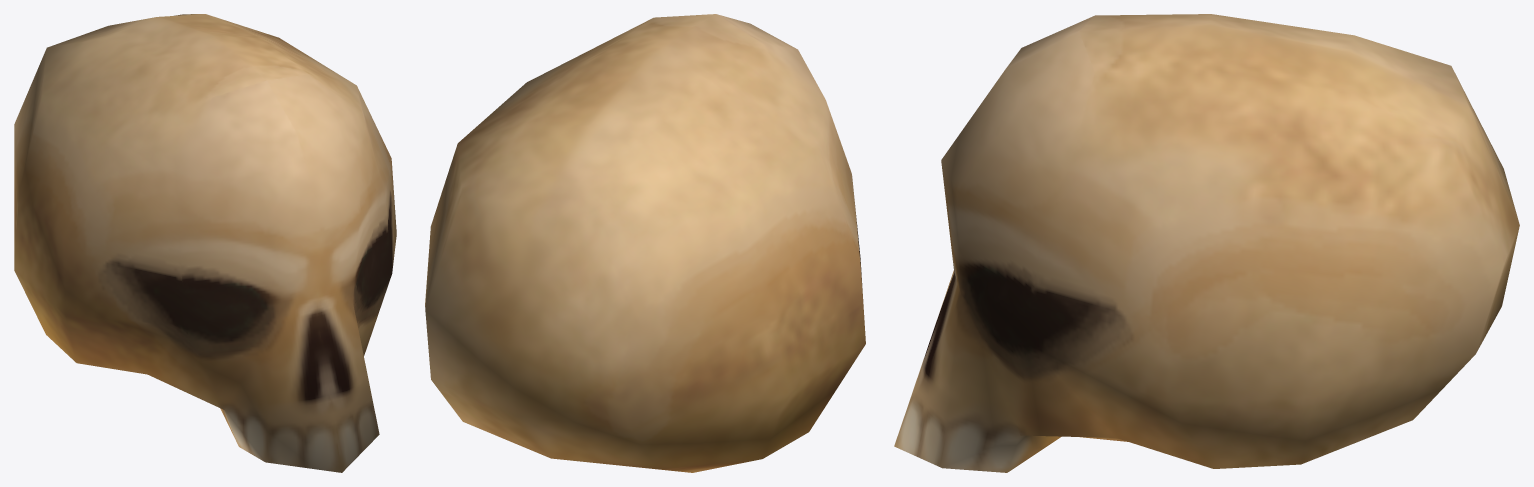
The model's file is skeleton.002.fbx.
3 views of the same model, side by side, from view 1: azimuth 30°, elevation 25°; view 2: azimuth 150°, elevation 25°; view 3: azimuth 270°, elevation 25° (orthographic). The views are drawn at different scales.
Parts seen in each view (by area): view 1: skeleton.002; view 2: skeleton.002; view 3: skeleton.002.
Part boxes in pixels (x1,y1,x2,y2): skeleton.002: (14, 14, 396, 472); skeleton.002: (425, 14, 865, 472); skeleton.002: (894, 14, 1519, 472).
Bounding box in the file's own units: 33.2 × 33.19 × 44.2.
